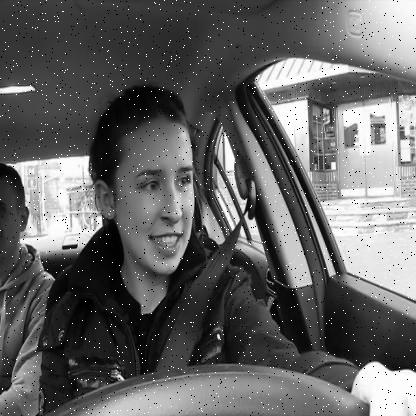seatbelt: (83, 68, 270, 378)
